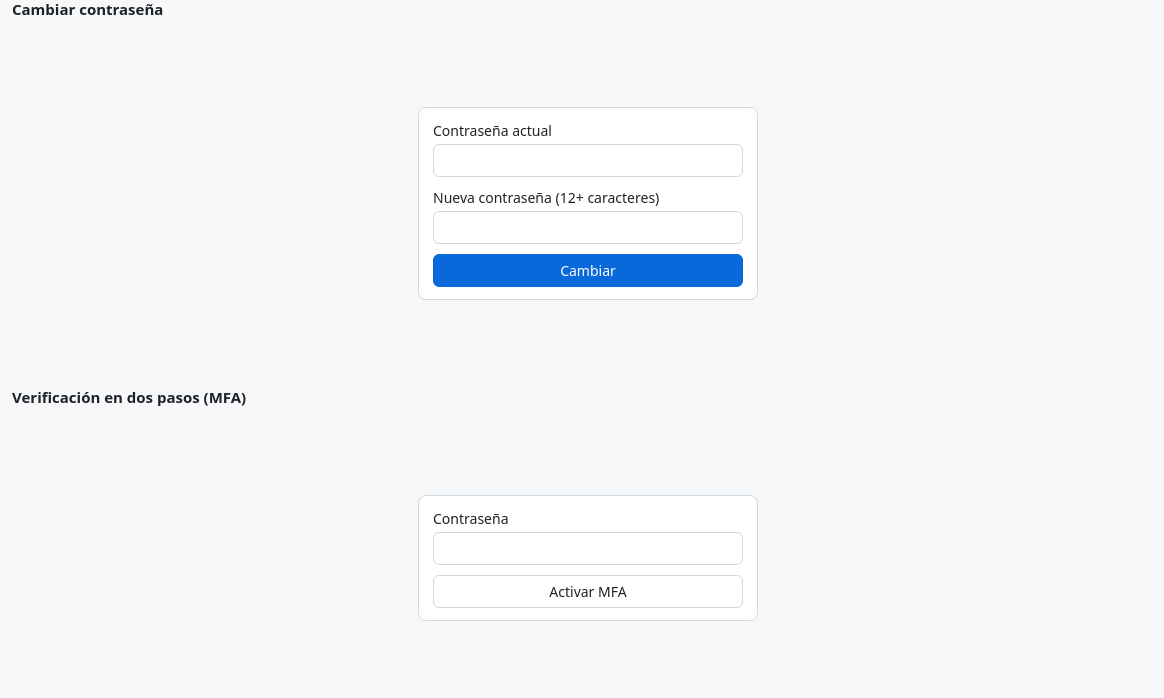
Test: credential management UI › walks through MFA enrollment and shows recovery codes once
Type "pw" into the password field labelled "Contraseña".
click(588, 549); type("pw")  # box top-left (433, 532), bottom-right (743, 565)
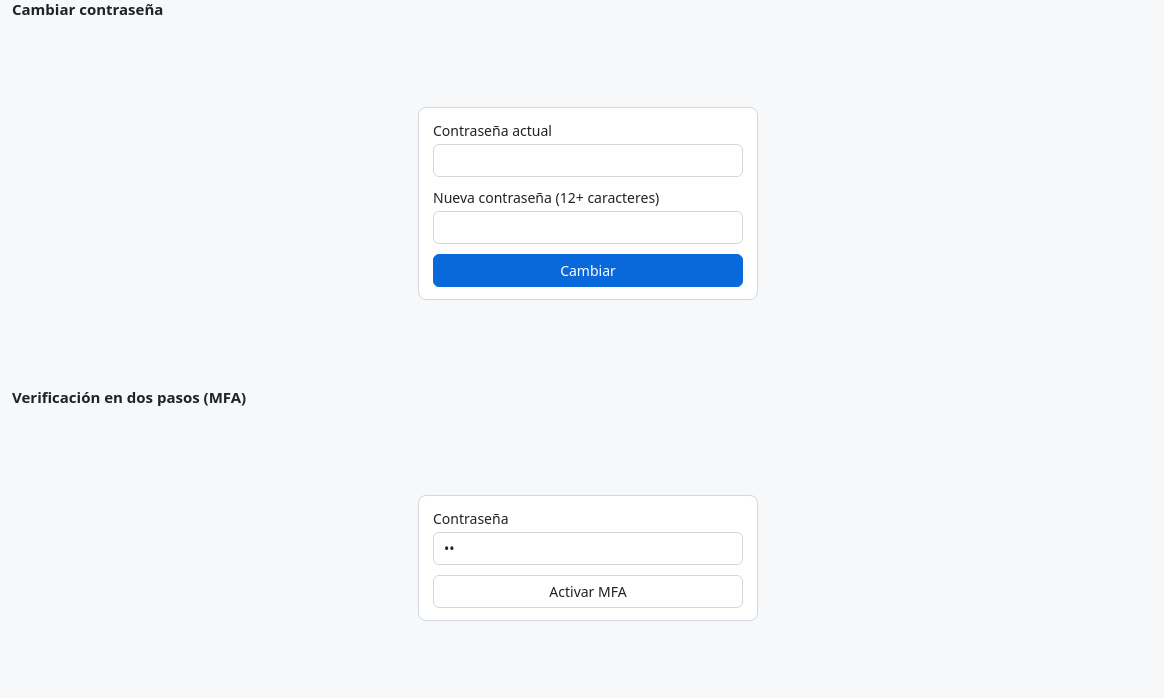
Click the button "Activar MFA".
click(588, 592)  # box top-left (433, 575), bottom-right (743, 608)
(page scrolled)
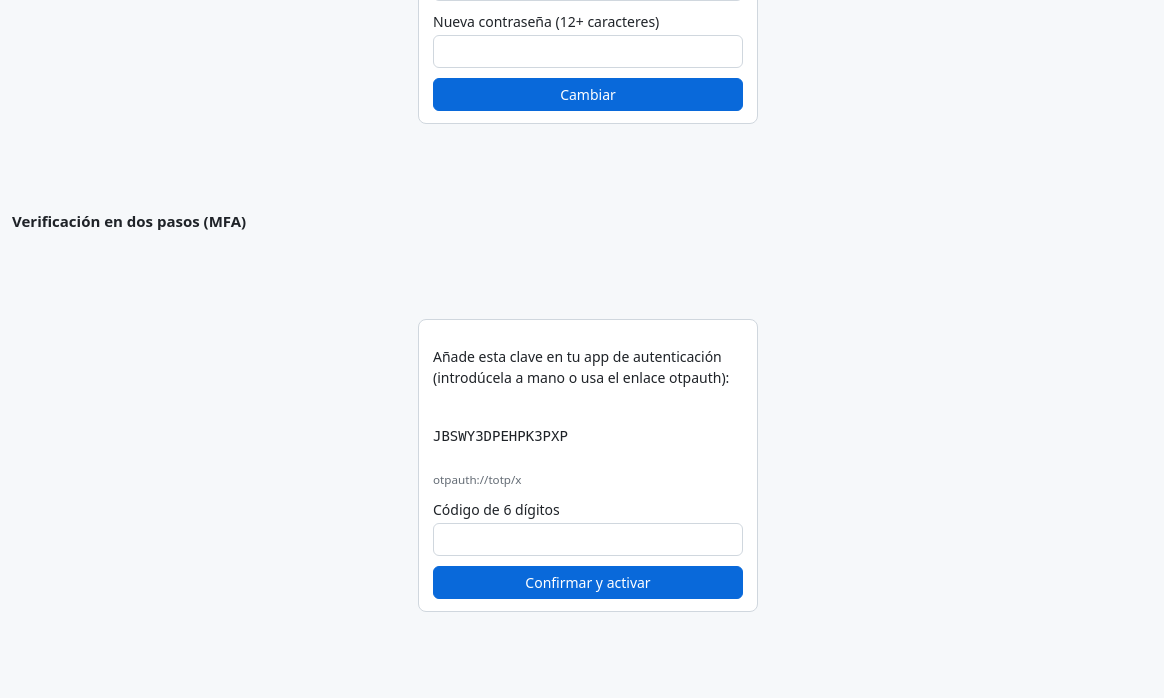
Expected: the text "JBSWY3DPEHPK3PXP" is shown, top-left (433, 428), bottom-right (568, 444)
Type "123456" into the field labelled "Código de 6 dígitos".
click(588, 539); type("123456")  # box top-left (433, 523), bottom-right (743, 556)
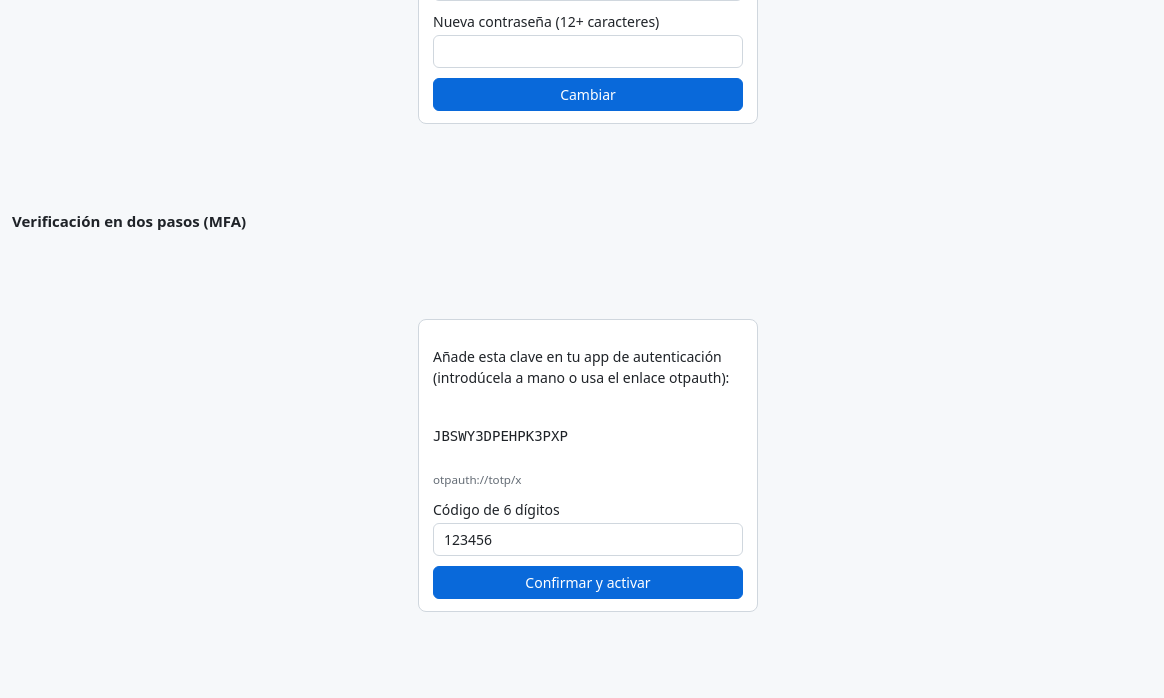
Click the button "Confirmar y activar".
click(588, 582)  # box top-left (433, 566), bottom-right (743, 599)
(page scrolled)
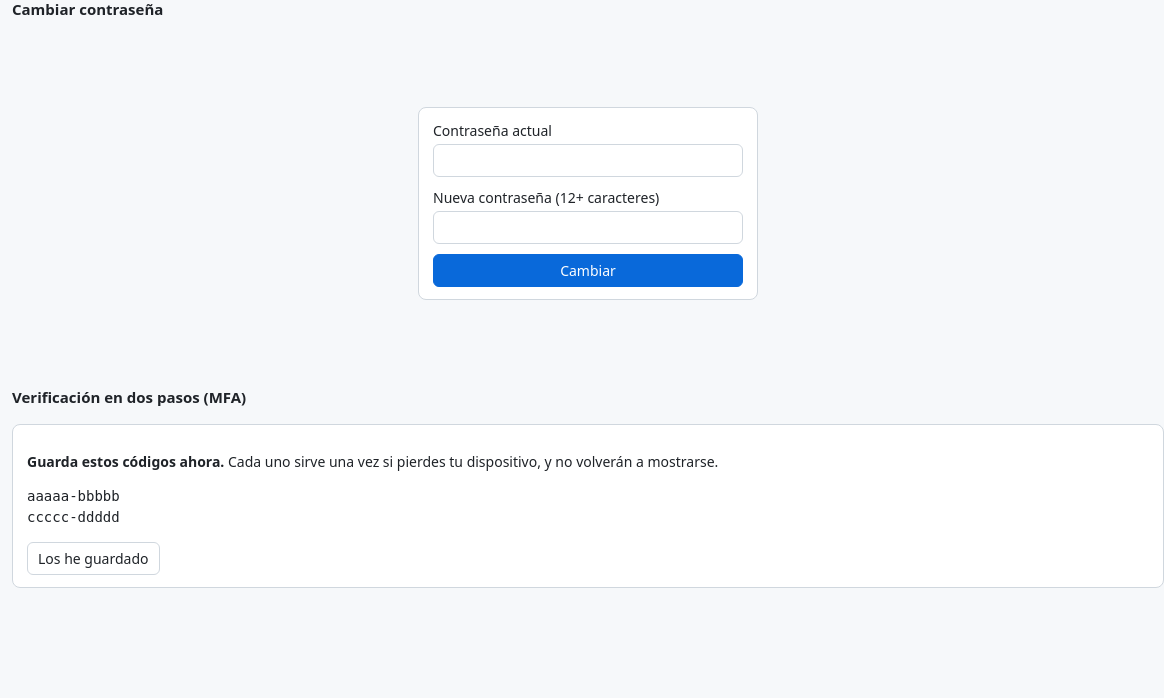
Expected: the text "aaaaa-bbbbb ccccc-ddddd" is shown, top-left (27, 488), bottom-right (120, 525)
Click the button "Los he guardado".
click(93, 558)  # box top-left (27, 542), bottom-right (160, 575)
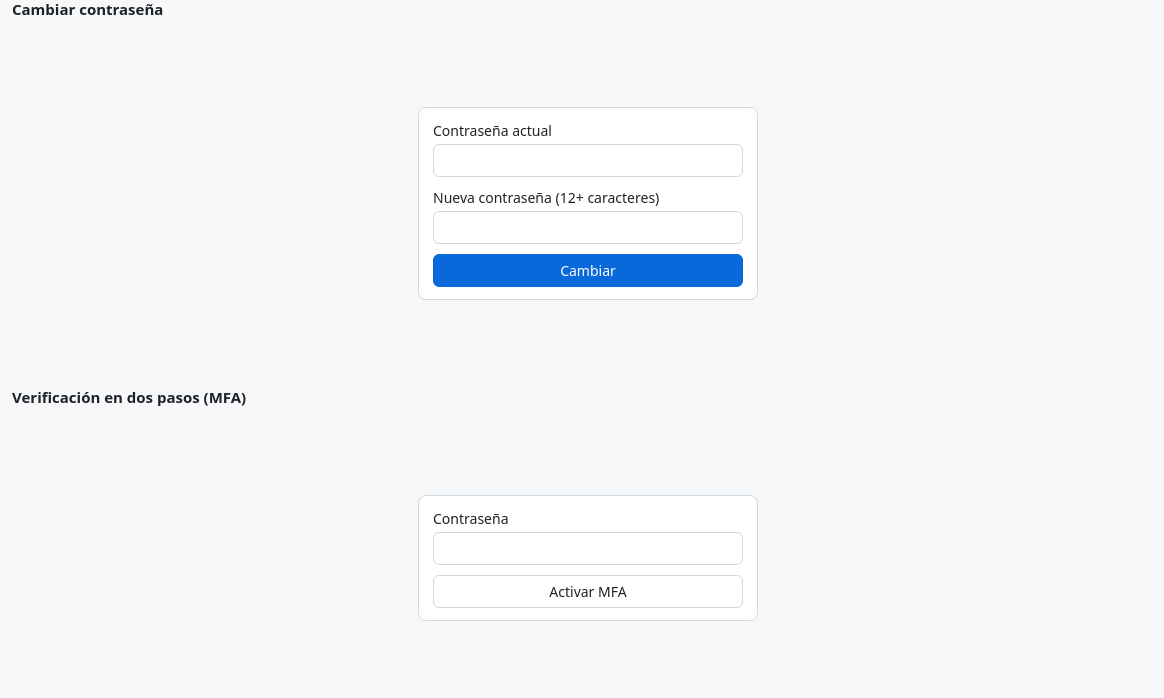
Expected: the text "aaaaa-bbbbb" is gone
